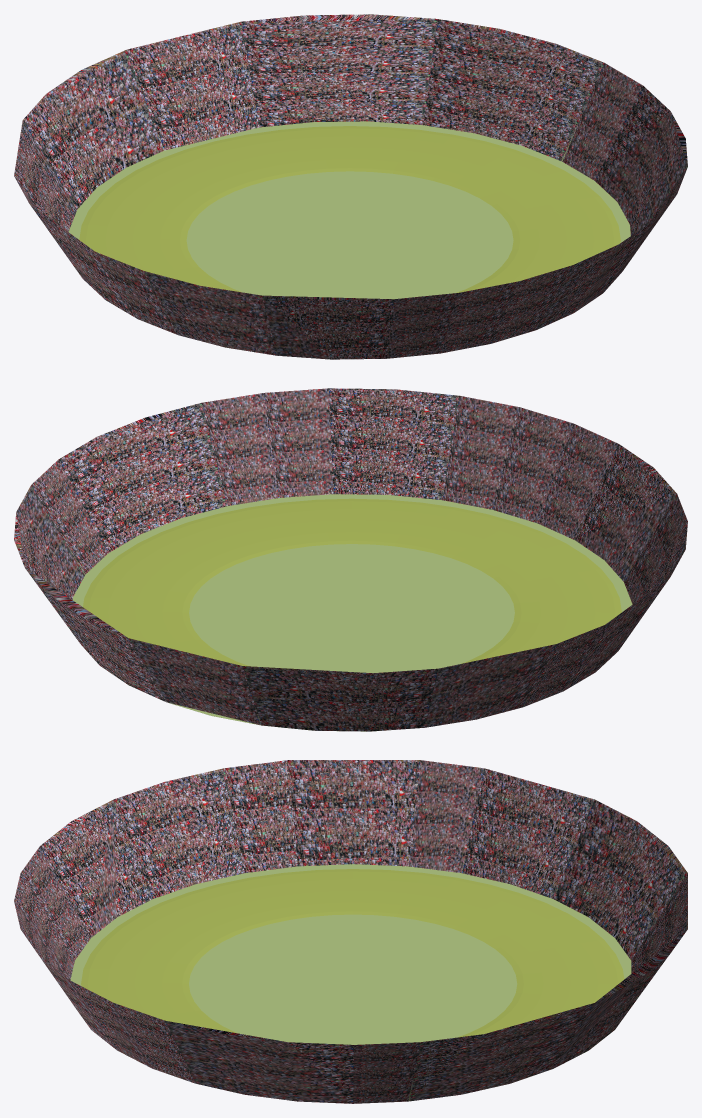
File: Ground.fbx
The picture shows the model from 3 angles, top to bottom: view 1: azimuth 30°, elevation 25°; view 2: azimuth 150°, elevation 25°; view 3: azimuth 270°, elevation 25°; orthographic projection.
Parts seen in each view (by area): view 1: Ground; view 2: Ground; view 3: Ground.
Part boxes in pixels (bbox=[...]): Ground: bbox=[14, 14, 687, 359]; Ground: bbox=[14, 388, 687, 731]; Ground: bbox=[14, 760, 687, 1103].
Size of the model in its own units: 15450 by 2126 by 15450.
